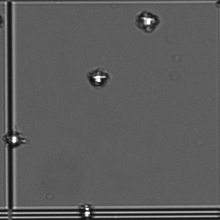Living Cell: (133, 8, 166, 46), (85, 59, 111, 97), (1, 130, 30, 157)
